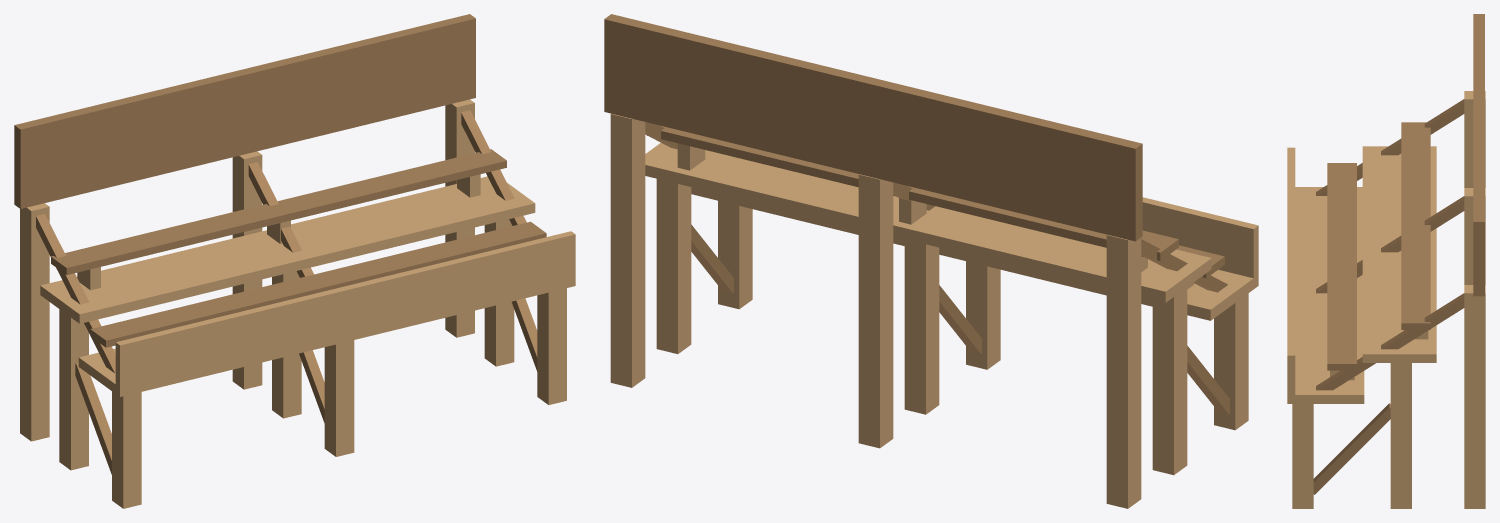
File: spectator-stand-upper-tier.glb
The picture shows the model from 3 angles, left to right: view 1: azimuth 30°, elevation 25°; view 2: azimuth 150°, elevation 25°; view 3: azimuth 270°, elevation 25°; orthographic projection. The views are drawn at different scales.
Visible parts, largest first — view 1: spectator-stand-upper; view 2: spectator-stand-upper; view 3: spectator-stand-upper.
Boxes of the visible parts, x1=… form: spectator-stand-upper: x1=14, y1=14, x2=575, y2=508; spectator-stand-upper: x1=604, y1=14, x2=1258, y2=508; spectator-stand-upper: x1=1287, y1=14, x2=1485, y2=508.
Size of the model in its own units: 6 by 3.9 by 2.42.
